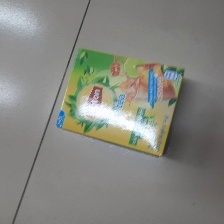LipTon: (55, 46, 186, 159)
